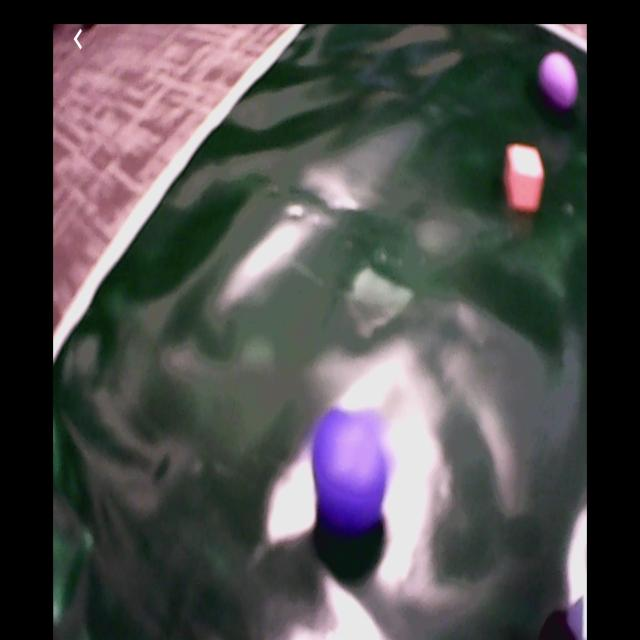ball: (314, 406, 387, 531), (539, 53, 580, 110)
